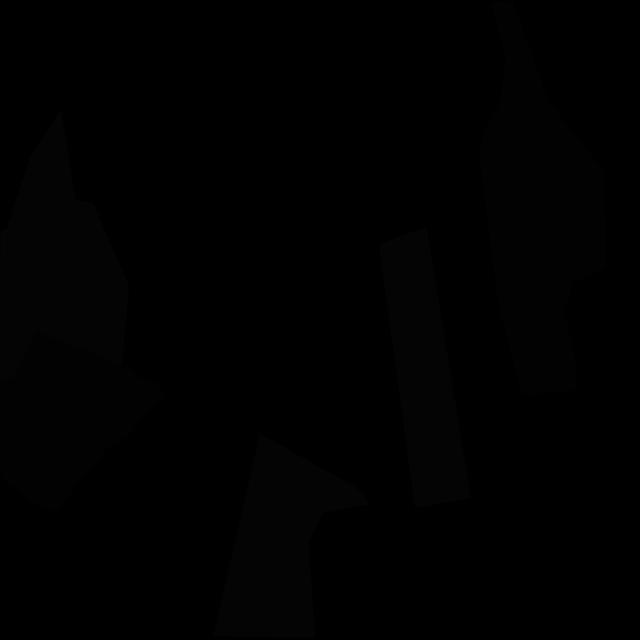cardboard: (480, 0, 606, 395), (0, 332, 166, 512)
soft_plastic: (0, 109, 129, 383), (213, 433, 370, 638), (379, 227, 471, 508)
